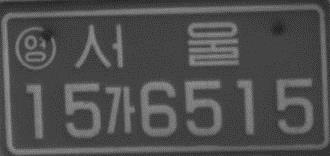1: (21, 80, 49, 143), (233, 78, 259, 136)
5: (61, 80, 102, 140), (274, 76, 314, 137), (183, 78, 224, 137)
6: (139, 78, 177, 137)
가: (103, 84, 135, 134)
서울_D: (71, 18, 243, 72)
영: (15, 25, 57, 71)
